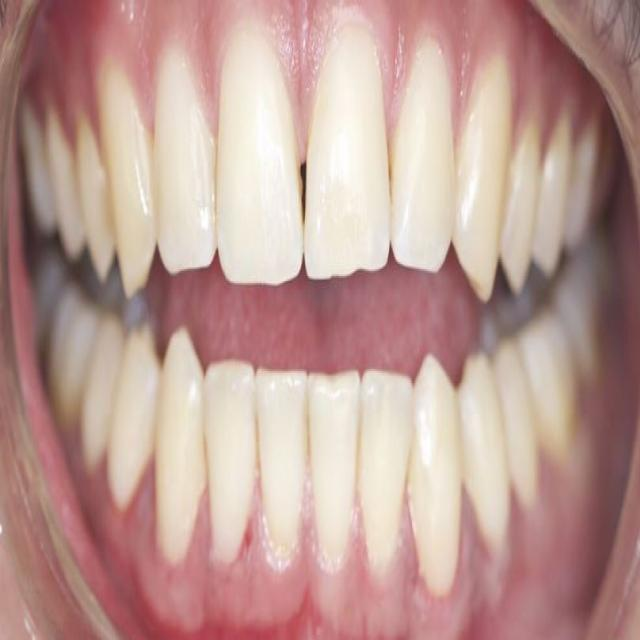1st Molar: (518, 312, 577, 455), (48, 285, 98, 426), (18, 102, 52, 231), (567, 121, 599, 247)
1st Premolar: (459, 350, 512, 557), (109, 326, 158, 514), (501, 119, 539, 293), (77, 109, 113, 279)
2nd Molar: (556, 255, 600, 383), (33, 247, 70, 338), (599, 128, 619, 212)
2nd Premolar: (494, 345, 540, 507), (83, 321, 124, 478), (532, 116, 570, 274), (48, 107, 85, 262)
Canine: (454, 57, 512, 304), (99, 57, 155, 298), (407, 357, 463, 597), (155, 329, 206, 571)
Central Incisor: (217, 29, 304, 286), (303, 26, 390, 279), (255, 371, 308, 566), (309, 373, 360, 574)
Lateral Incisor: (390, 38, 456, 274), (154, 45, 217, 276), (204, 362, 256, 571), (360, 371, 413, 576)
